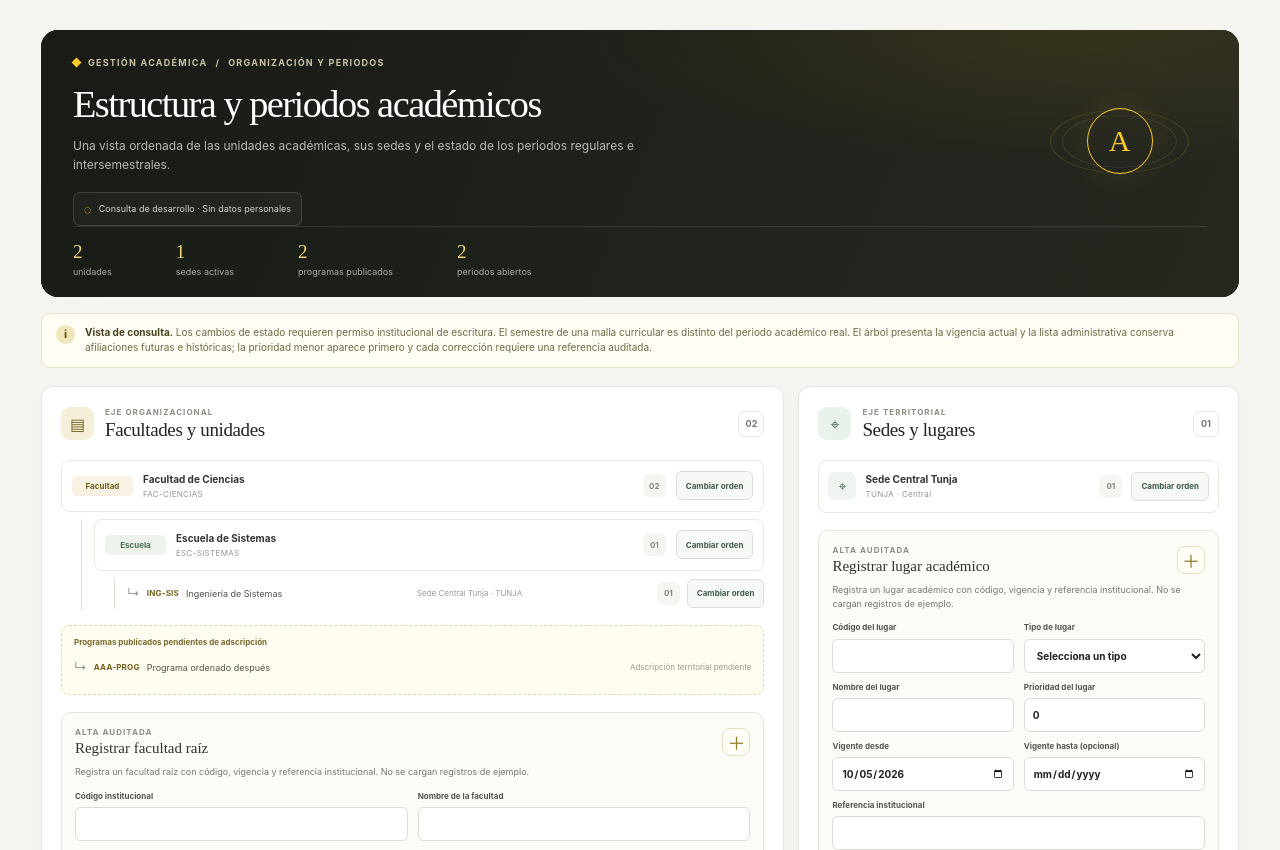
Test: AcademicOperationsPage › rejects a negative order before sending a structure mutation
Step 1. Click the button with aria-label "Cambiar orden de Facultad de Ciencias" → {"x": 715, "y": 486}, box [676, 471, 753, 500]
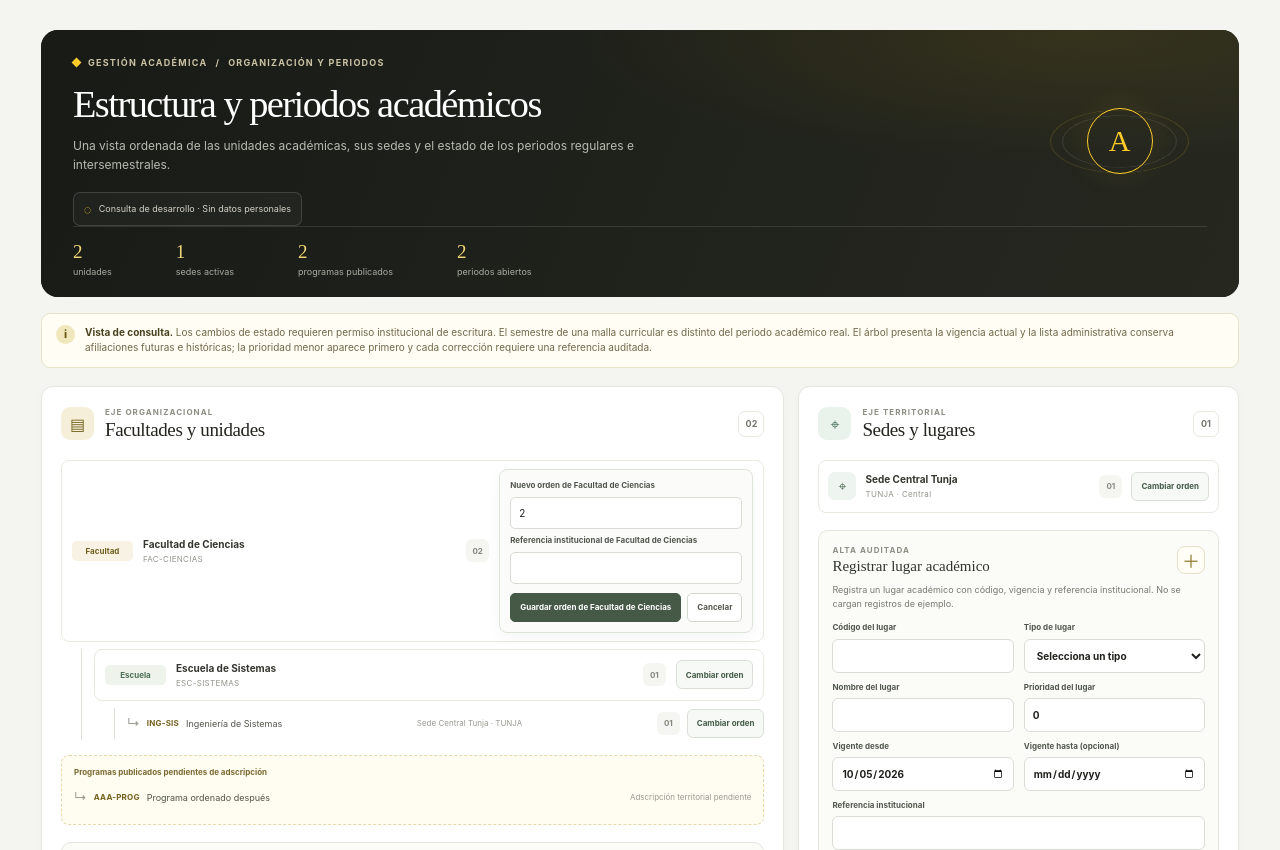
Step 2. Replace the text in the number field labelled "Nuevo orden de Facultad de Ciencias" with "-1" → {"x": 626, "y": 513}, box [510, 497, 742, 529]
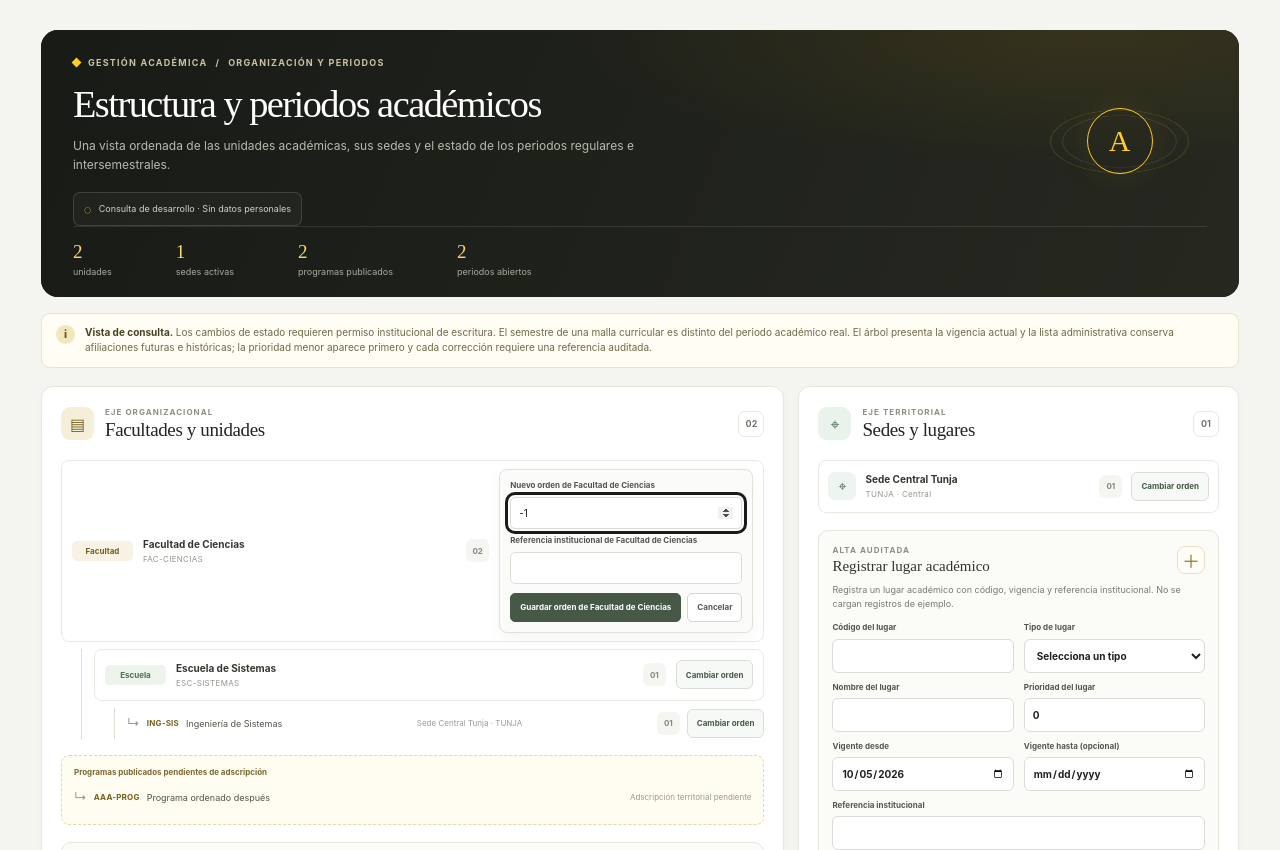
Step 3. Submit the form named "Editar orden de Facultad de Ciencias", box [499, 469, 754, 633]
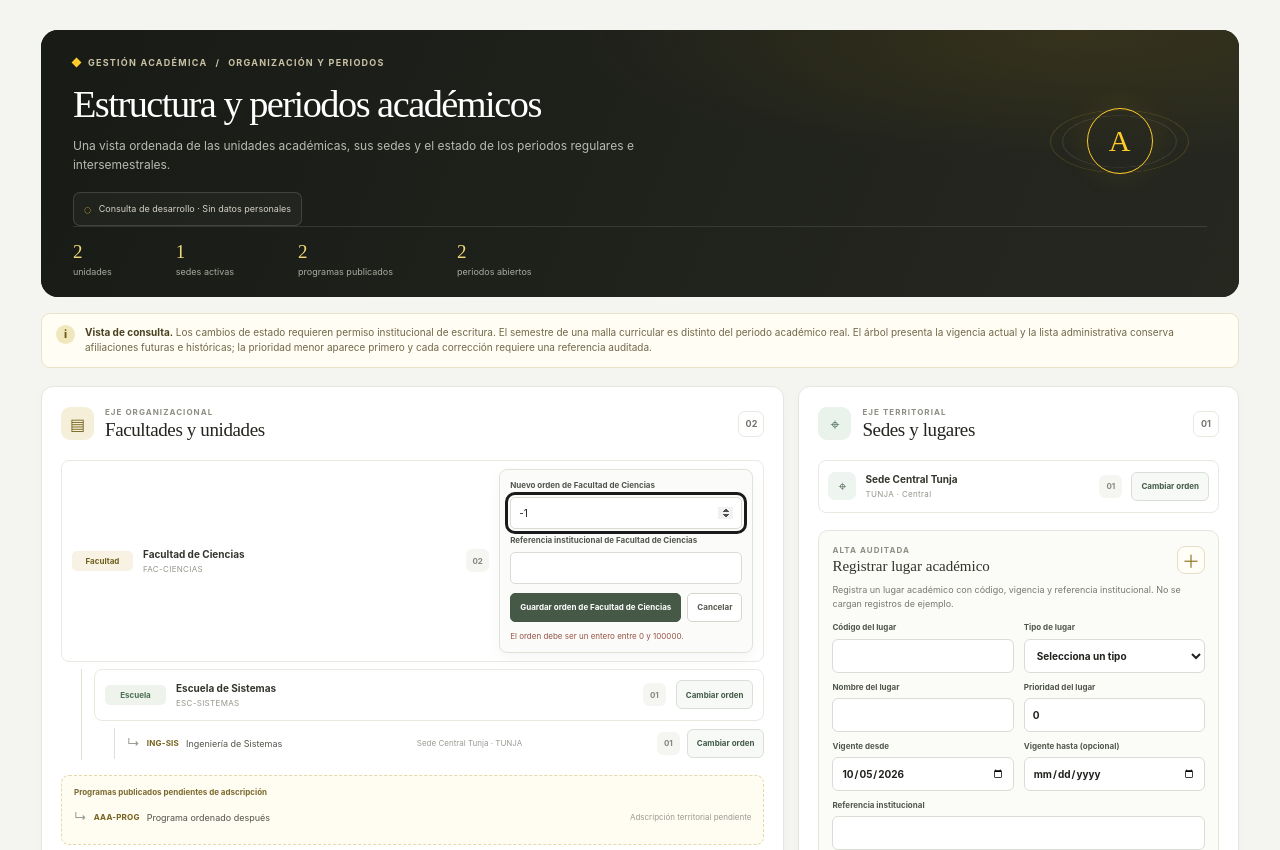
Result: the message shows "entero entre 0 y 100000" at [510, 631, 684, 641]
